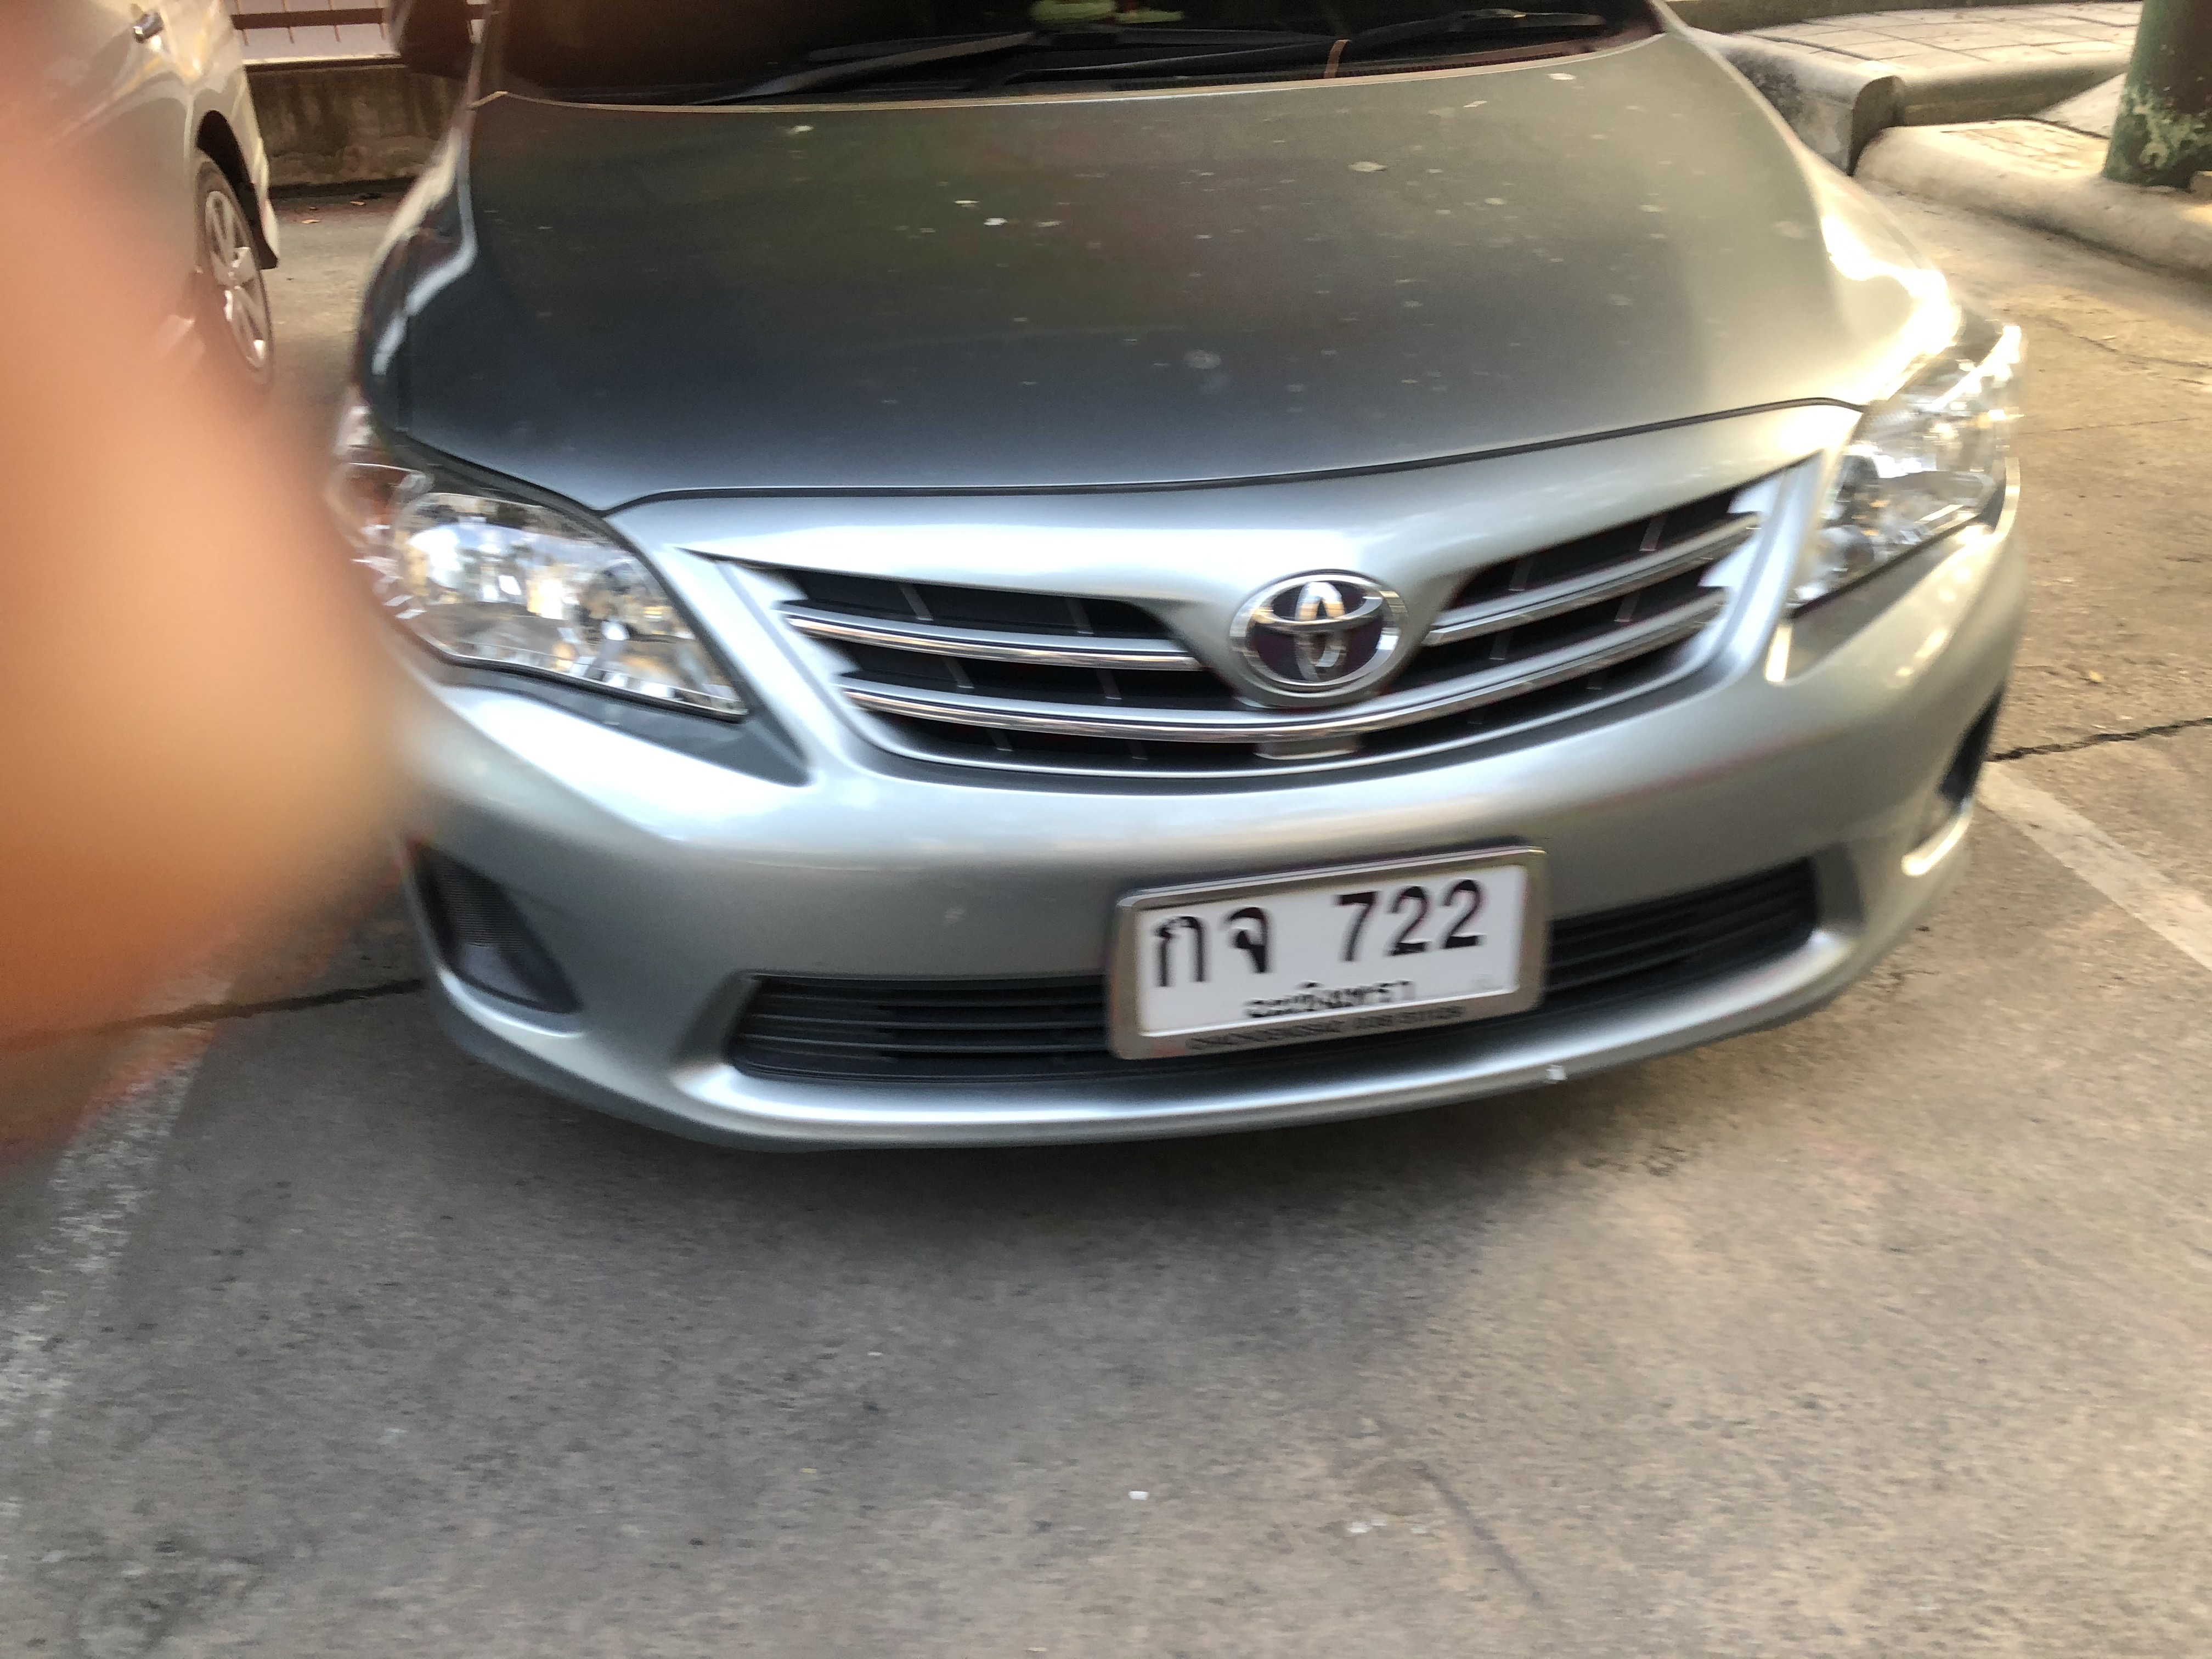in: (1136, 866, 1526, 1032)
out: (1113, 836, 1541, 1063)
